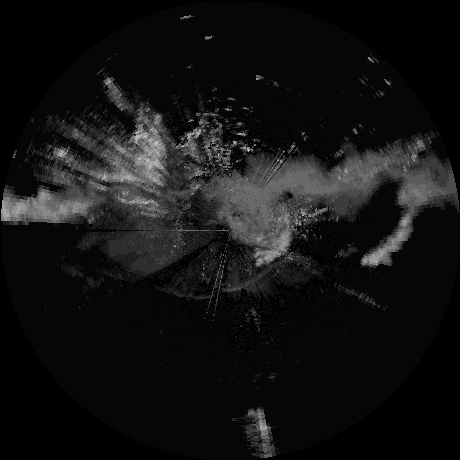frontgust: (224, 256, 287, 290), (154, 284, 218, 299)
